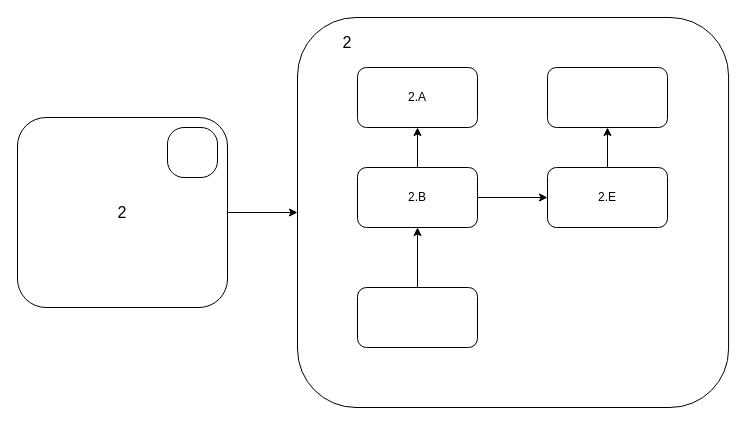
Some shapes in this 747 by 425 pixel diagram are drawn without their labels. Each missing label, with the box of its shape:
2.C: (356, 286, 478, 348)
2.D: (546, 66, 668, 128)
